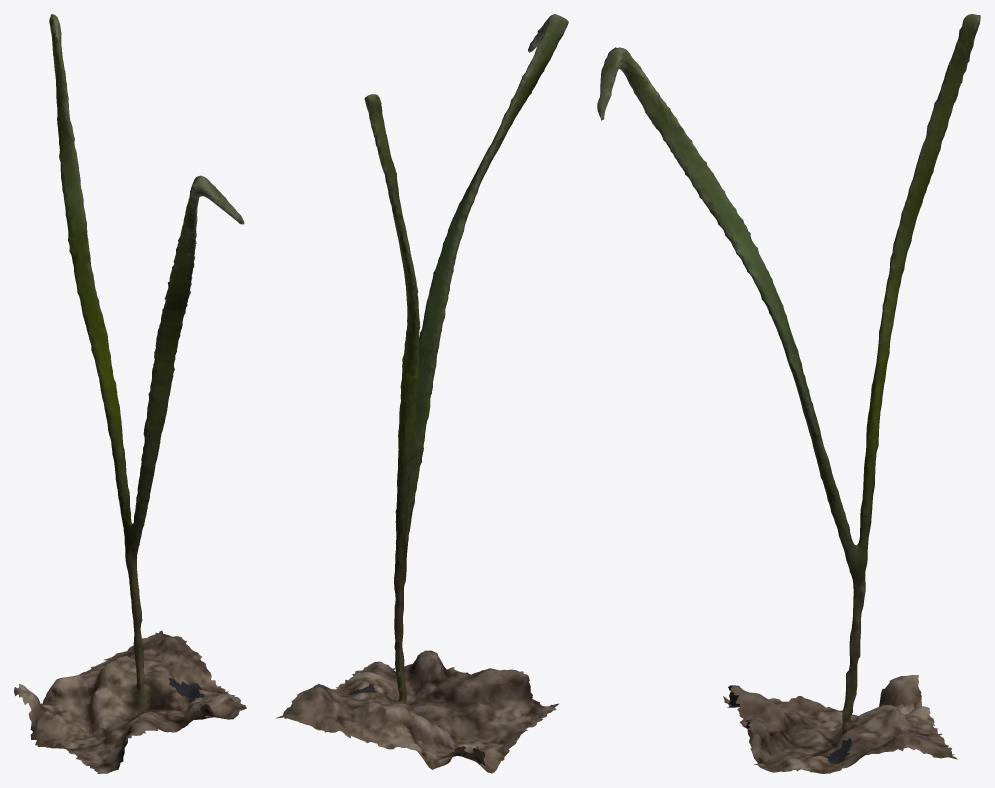
Rendered from Day6.glb.
3 views of the same model, side by side, from view 1: azimuth 30°, elevation 25°; view 2: azimuth 150°, elevation 25°; view 3: azimuth 270°, elevation 25° (orthographic). The views are drawn at different scales.
Parts seen in each view (by area): view 1: Day6; view 2: Day6; view 3: Day6.
Part boxes in pixels (box(x1,y1,x2,y2)): Day6: box(14, 14, 246, 773); Day6: box(276, 14, 568, 773); Day6: box(597, 14, 980, 773).
Bounding box in the file's own units: 0.1893 × 0.7212 × 0.3392.
58 materials, 58 textured.
